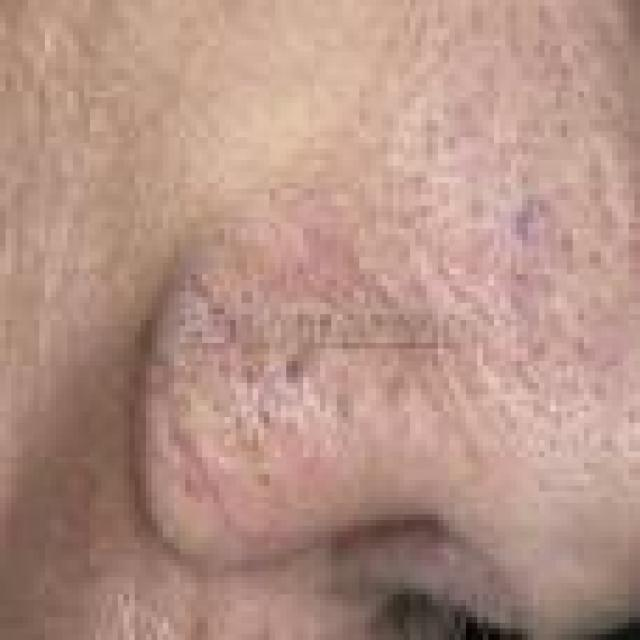Melasma: (54, 198, 428, 604)
